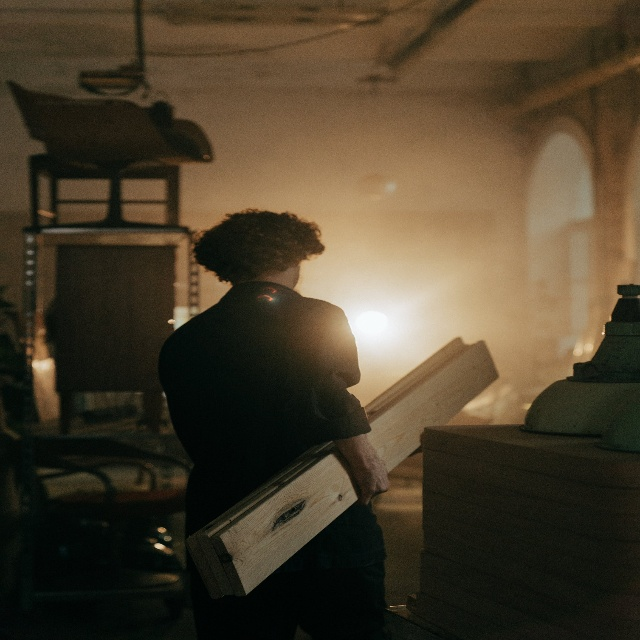Sin_guantes: (356, 446, 390, 506)
